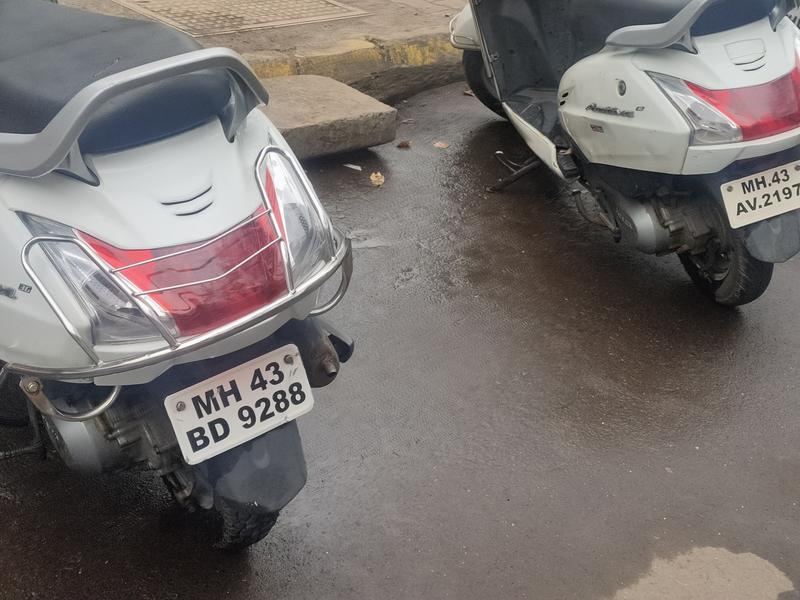license_plate: (155, 335, 313, 482), (709, 155, 788, 234)
